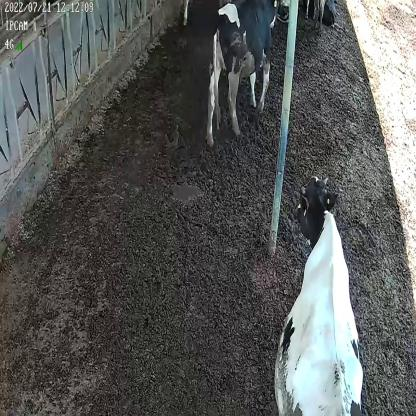cow: (272, 174, 366, 416), (207, 3, 280, 140)
